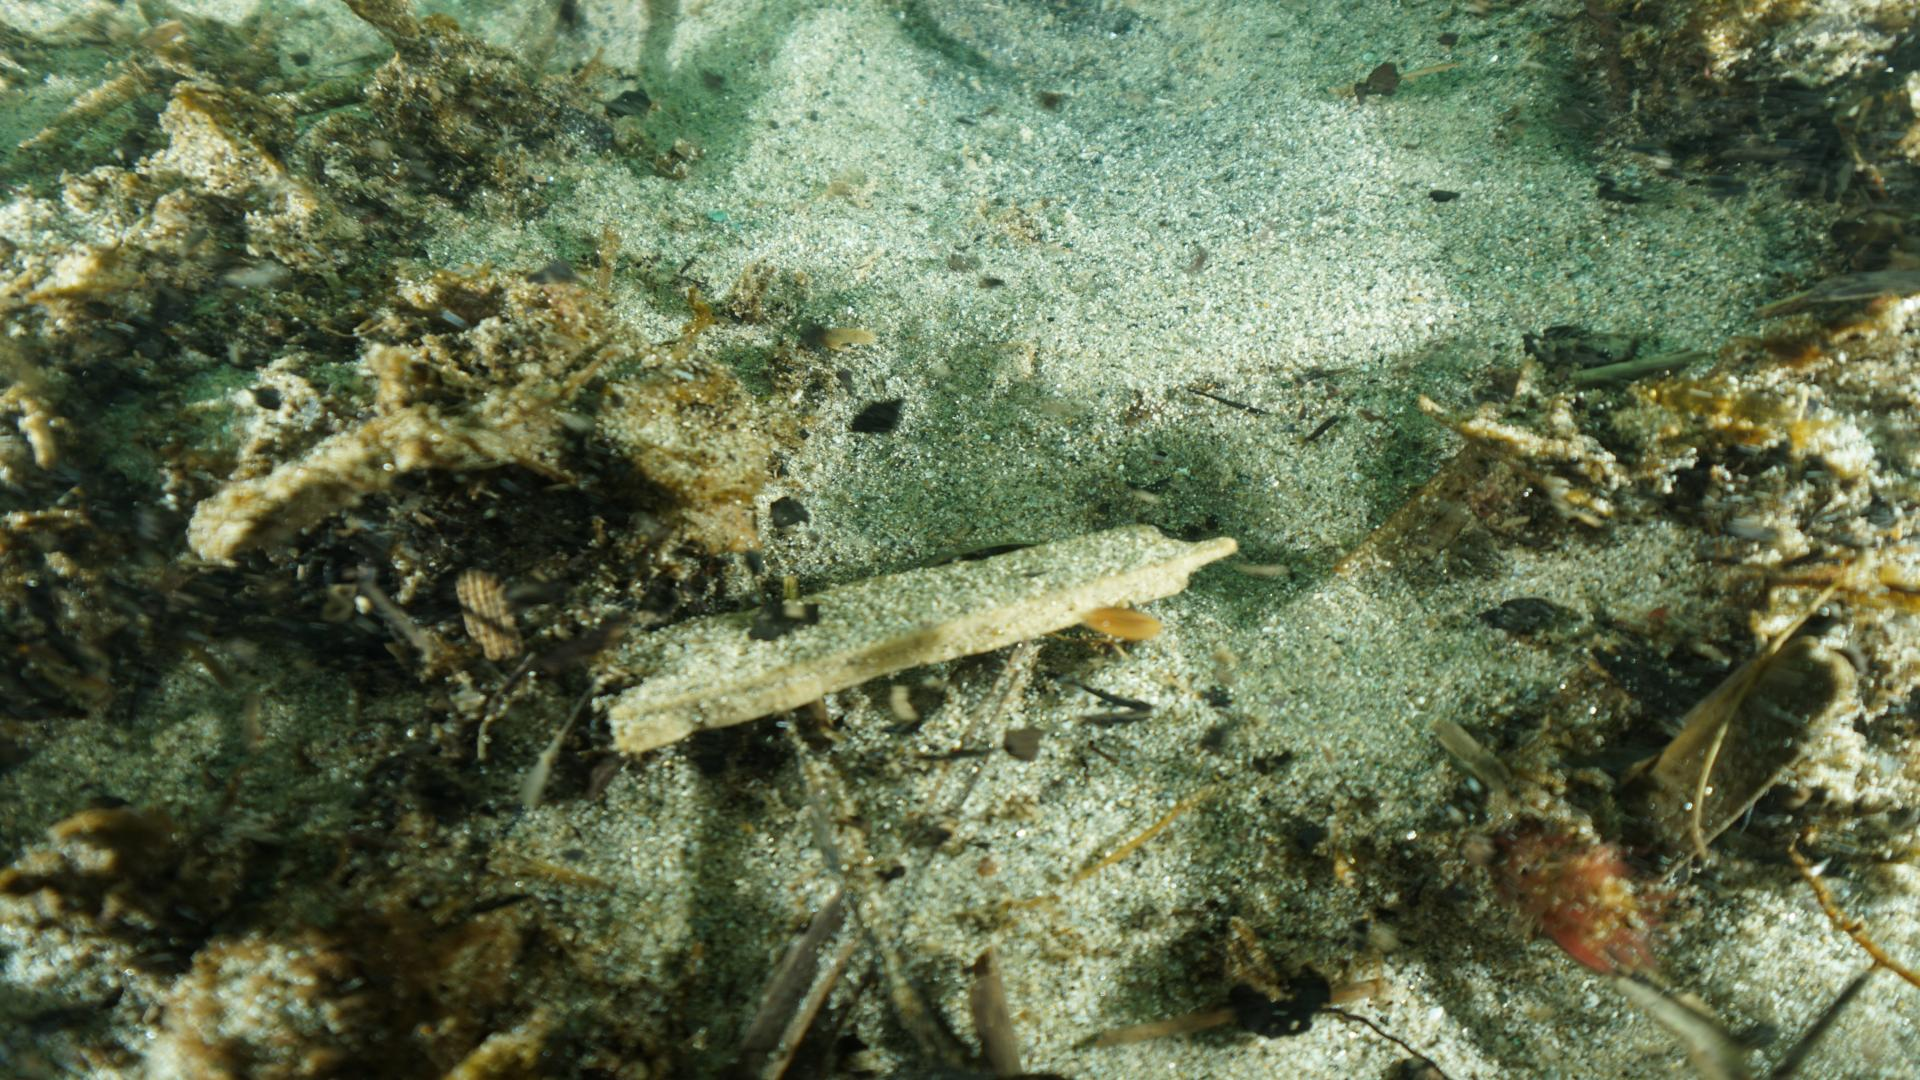wood: (585, 520, 1238, 752)
